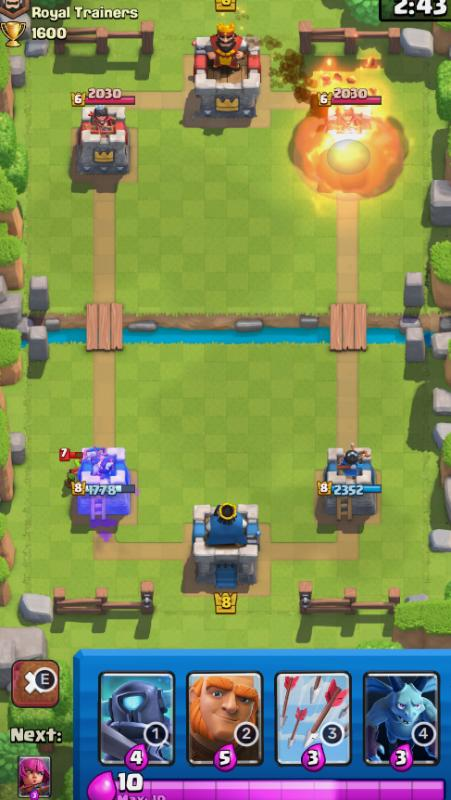gobelin: (57, 450, 97, 506)
